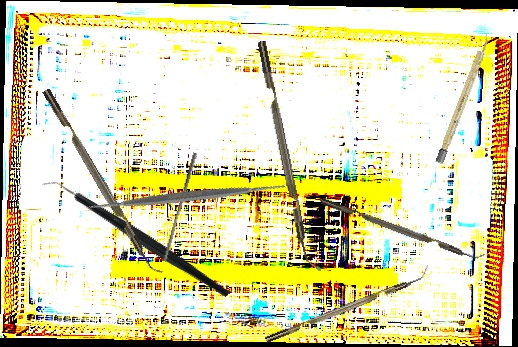Chopper: (38, 132, 232, 347), (42, 82, 167, 280), (257, 38, 322, 275), (261, 265, 434, 343), (320, 189, 487, 266)
Pusher: (161, 151, 198, 263)
Scalpel Handle: (435, 33, 492, 165)
Spatula Surgical: (79, 89, 296, 305)
